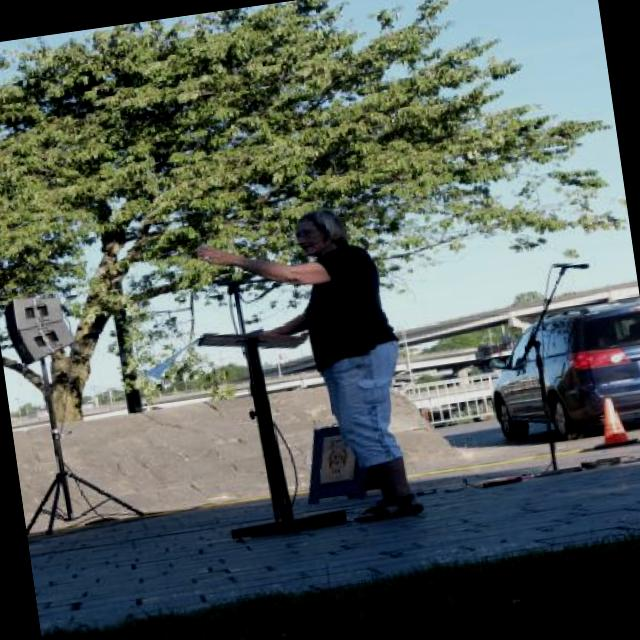Person: (185, 195, 428, 544)
